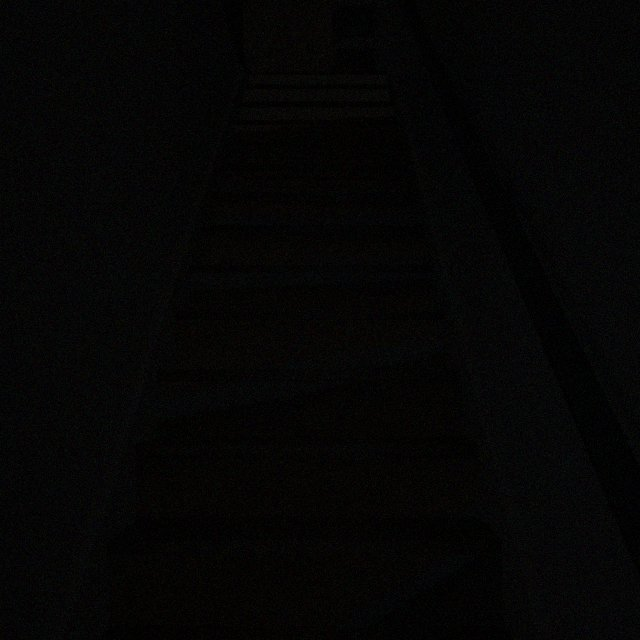stair: (104, 71, 509, 639)
